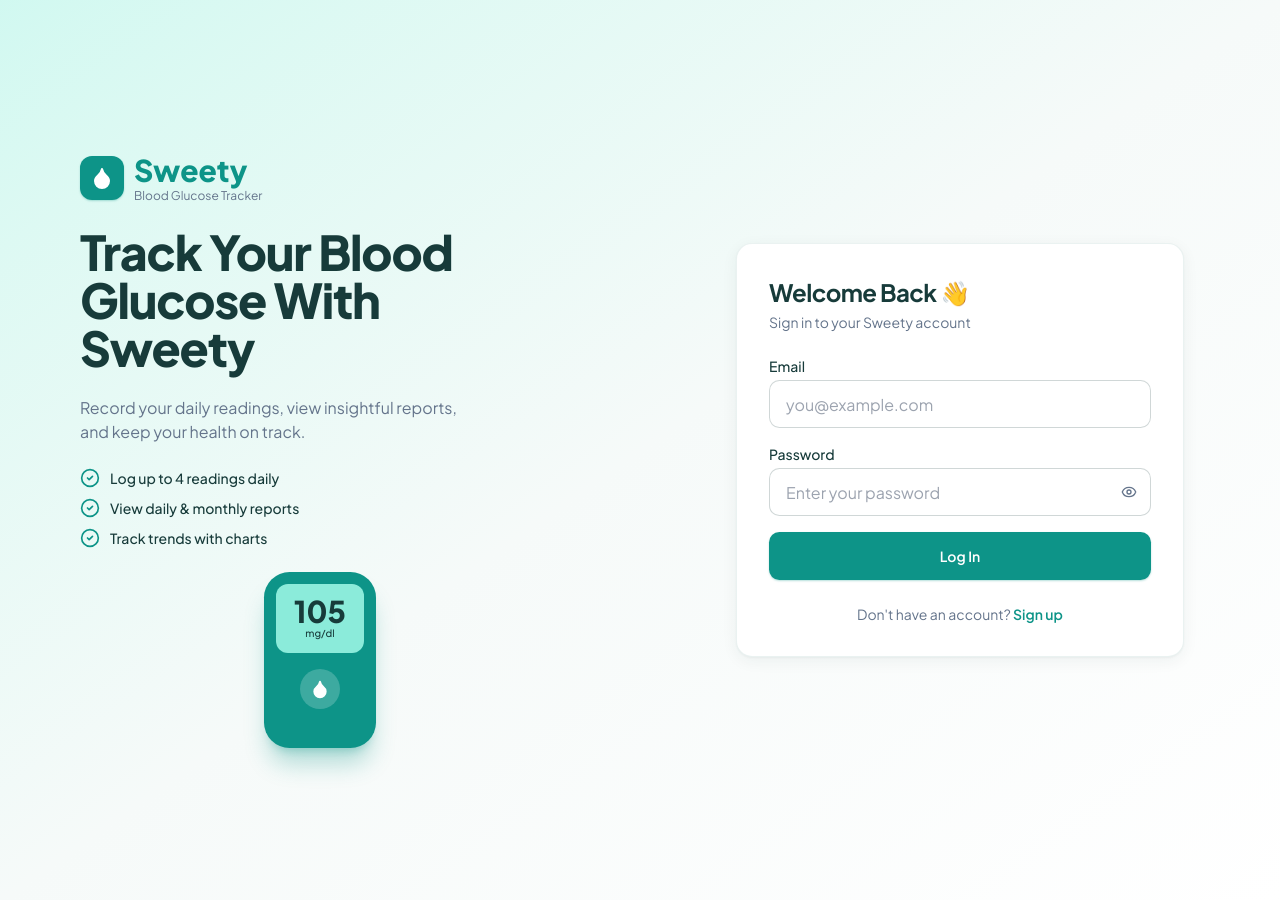
Login page › displays the server error message when credentials are wrong
This screenshot has width=1280, height=900.
Type "asha@example.com" into the field labelled "Email". click: (960, 404)
box: [769,380,1151,428]
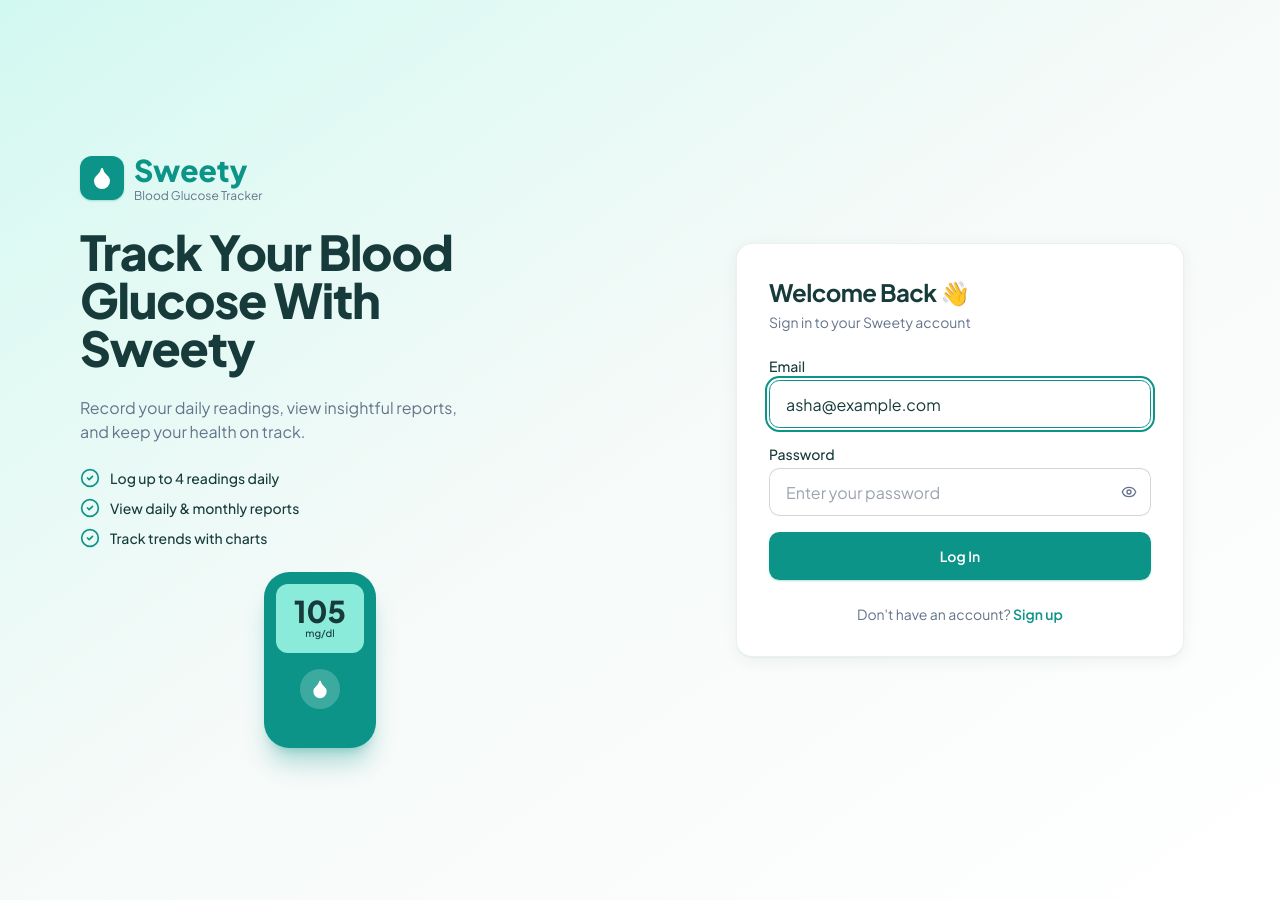
Type "wrongpass" into the password field labelled "Password". click: (960, 492)
box: [769,468,1151,516]
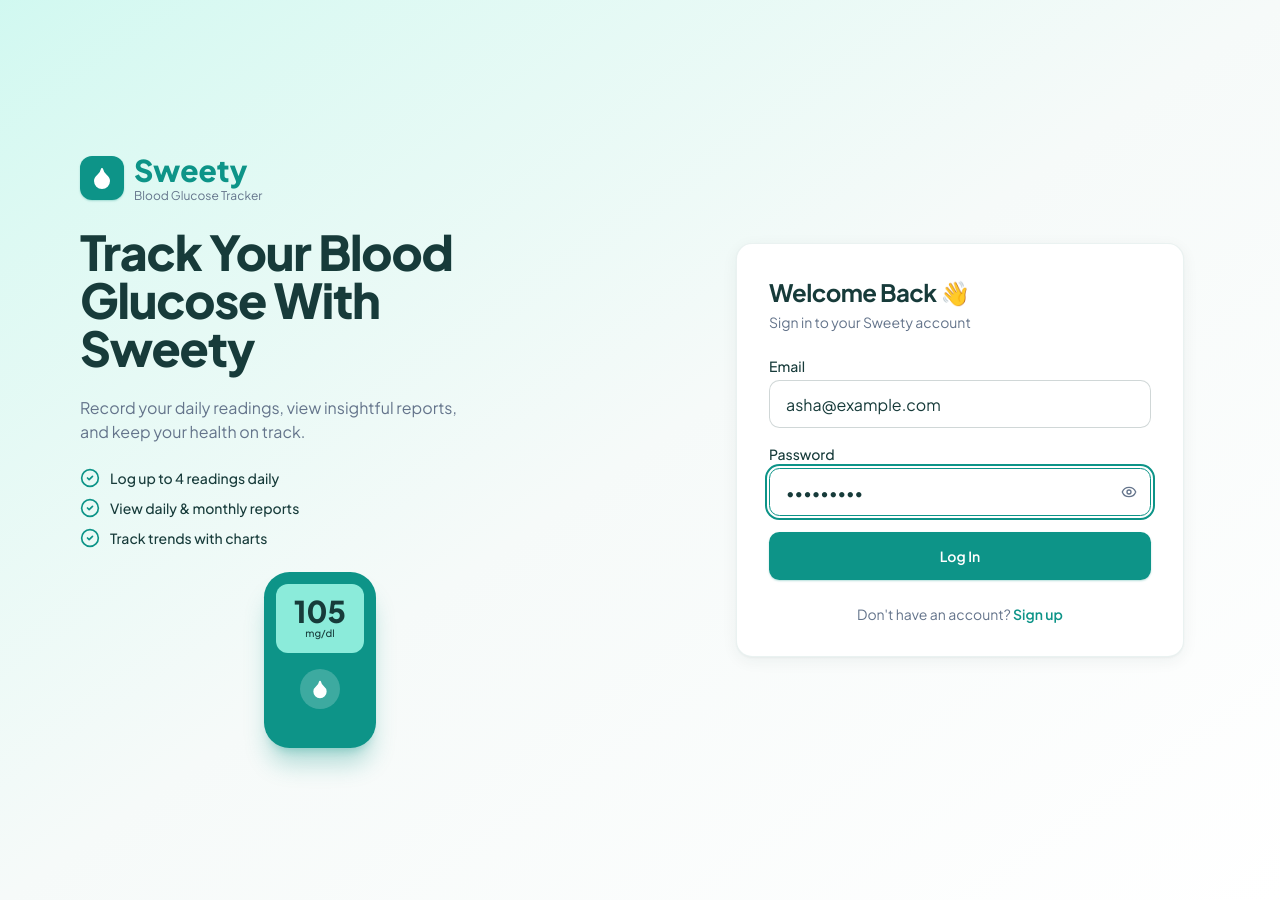
Click the button "Log In". click: (960, 556)
box: [769,532,1151,580]
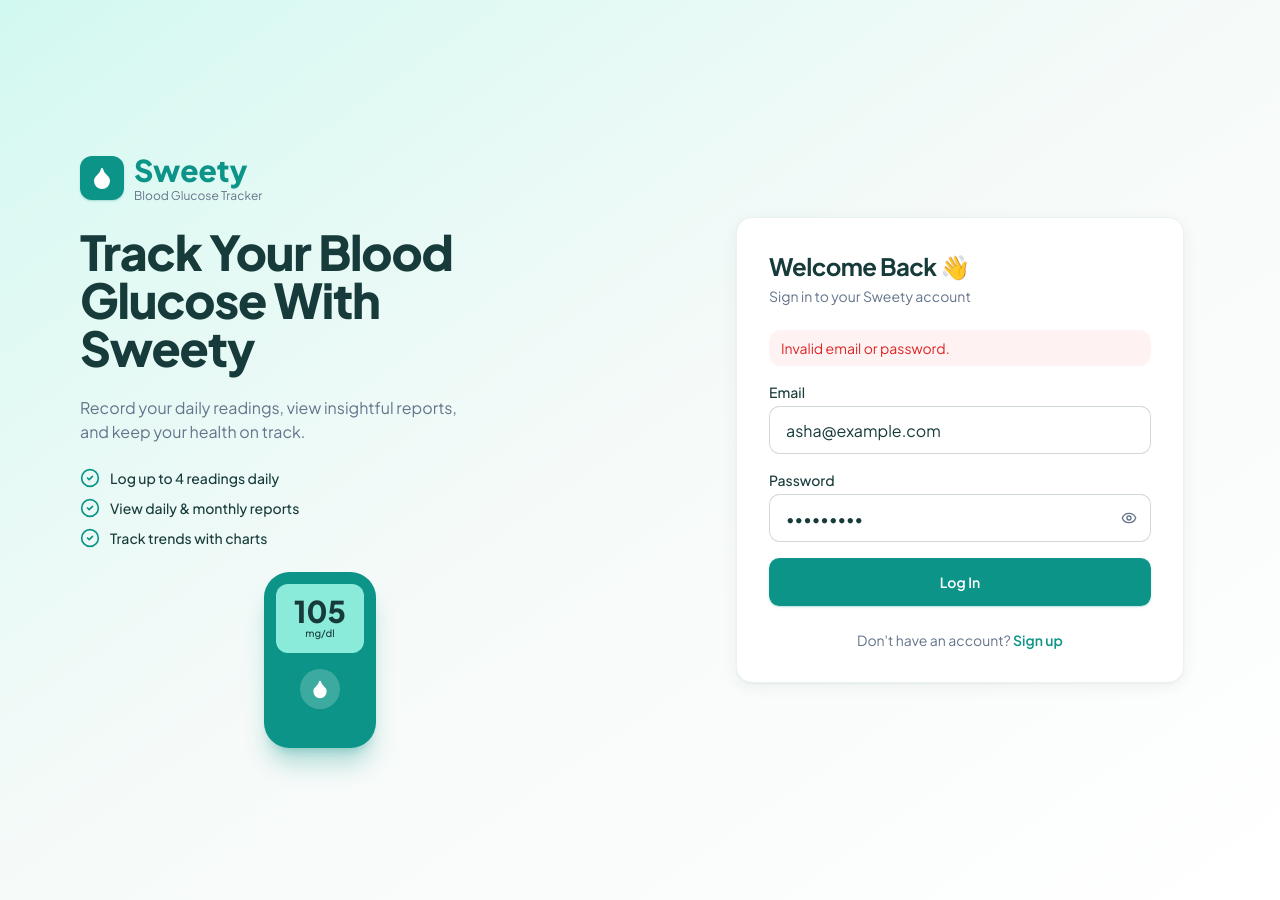
Check: the message reads "Invalid email or password.", box [781,339,950,357]
